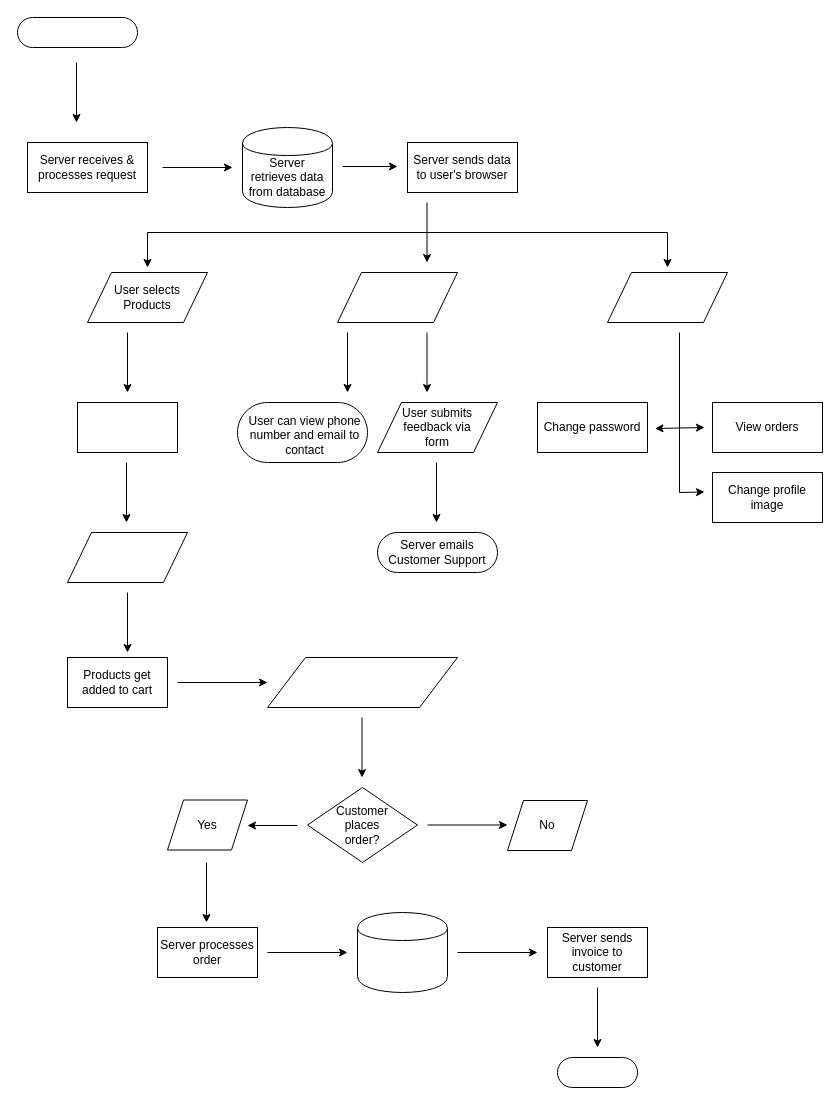
The diagram is 840 pixels wide and 1105 high, and some of its shapes have lost their labels. The shapes that lost their labels are listed below. From the top down, each one's box as (x1, y1, x2, y2) in pixels, then its label:
(16, 16, 138, 48): User requests site via browser
(336, 272, 458, 322): User selects Contact Info
(606, 272, 728, 322): User selects Account / Profile
(76, 402, 178, 452): User browses products on website
(66, 532, 188, 582): User selects various products
(266, 656, 458, 708): User proceeds through checkout inputting order customer details
(356, 912, 448, 992): Server adds order to database
(556, 1056, 638, 1088): Order complete
